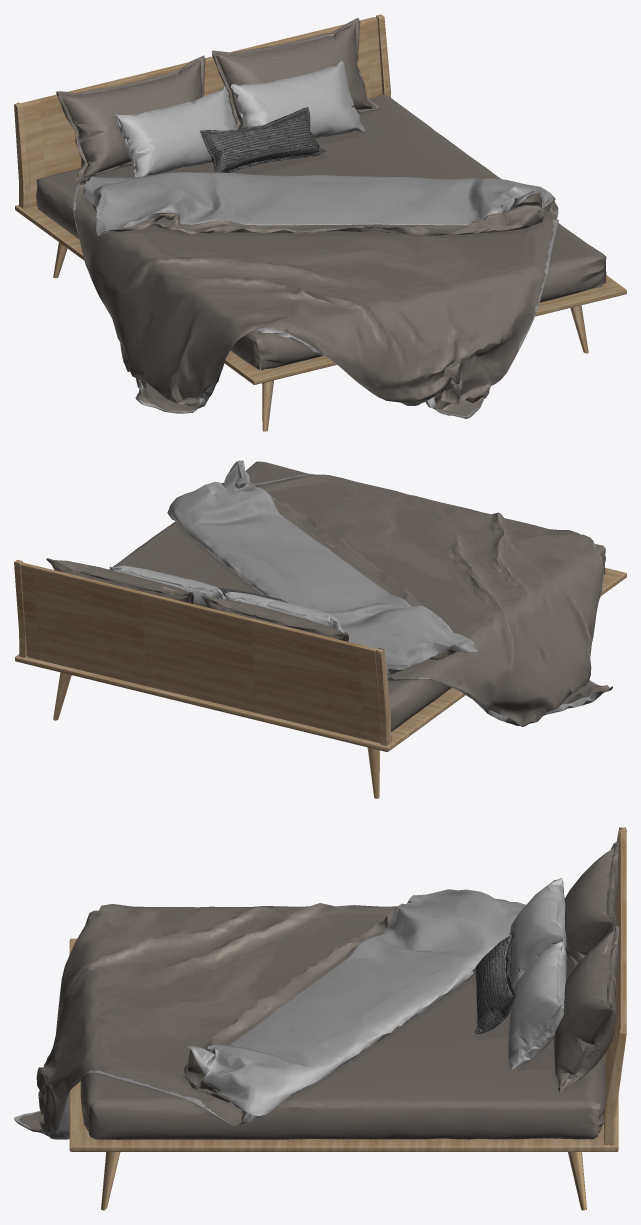
Rendered from raw_model.obj.
3 views of the same model, one above another, from view 1: azimuth 30°, elevation 25°; view 2: azimuth 150°, elevation 25°; view 3: azimuth 270°, elevation 25° (orthographic). The views are drawn at different scales.
Visible parts, largest first — view 1: solid_002, solid_001, solid_004, solid_003, solid_005; view 2: solid_002, solid_004, solid_001, solid_003; view 3: solid_002, solid_001, solid_004, solid_003, solid_005.
Boxes of the visible parts, x1=… form: solid_002: x1=36, y1=18, x2=606, y2=418; solid_001: x1=73, y1=172, x2=558, y2=417; solid_004: x1=14, y1=14, x2=626, y2=431; solid_003: x1=115, y1=60, x2=365, y2=176; solid_005: x1=200, y1=107, x2=326, y2=172; solid_002: x1=46, y1=460, x2=612, y2=731; solid_004: x1=14, y1=560, x2=626, y2=798; solid_001: x1=167, y1=460, x2=612, y2=726; solid_003: x1=109, y1=565, x2=349, y2=642; solid_002: x1=14, y1=841, x2=619, y2=1139; solid_001: x1=14, y1=889, x2=525, y2=1139; solid_004: x1=69, y1=827, x2=626, y2=1210; solid_003: x1=508, y1=878, x2=566, y2=1069; solid_005: x1=472, y1=932, x2=515, y2=1033.
Bounding box in the file's own units: 2.15 × 0.8336 × 2.31.
Materials: 1 (1 with a texture image).
